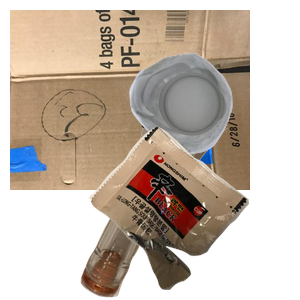cardboard: (10, 10, 250, 190)
glass: (78, 128, 298, 300)
plastic: (127, 51, 300, 197)
trash: (86, 124, 300, 300)
